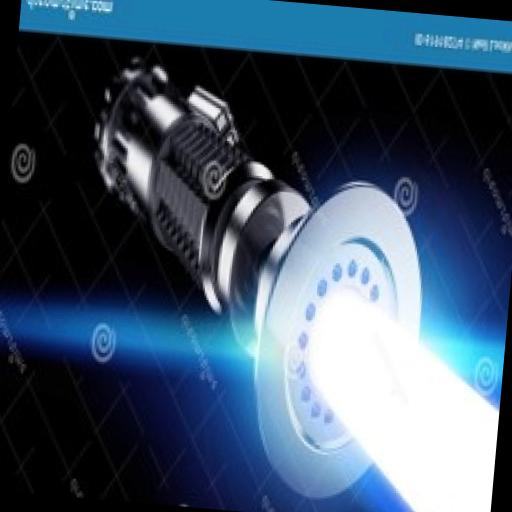lightsaber: (57, 46, 512, 512)
